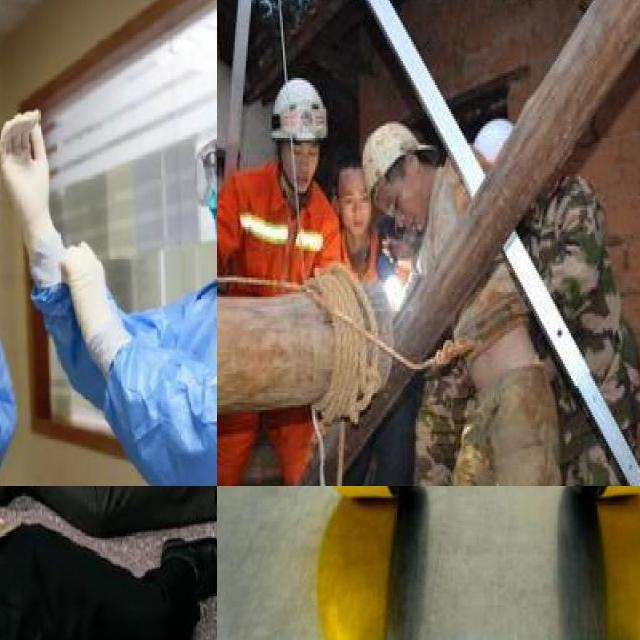face_mask: (43, 49, 217, 486), (197, 128, 217, 244)
face_nomask: (281, 140, 323, 191), (381, 191, 428, 235), (341, 186, 374, 235)
glasses: (194, 132, 217, 195)
hand_glove: (0, 108, 58, 221), (58, 242, 117, 336)
head_helmet: (267, 76, 329, 145), (356, 122, 415, 187)
person: (356, 125, 583, 486), (217, 74, 347, 486), (0, 533, 217, 640), (0, 486, 217, 538)
shoes: (157, 534, 217, 595)
